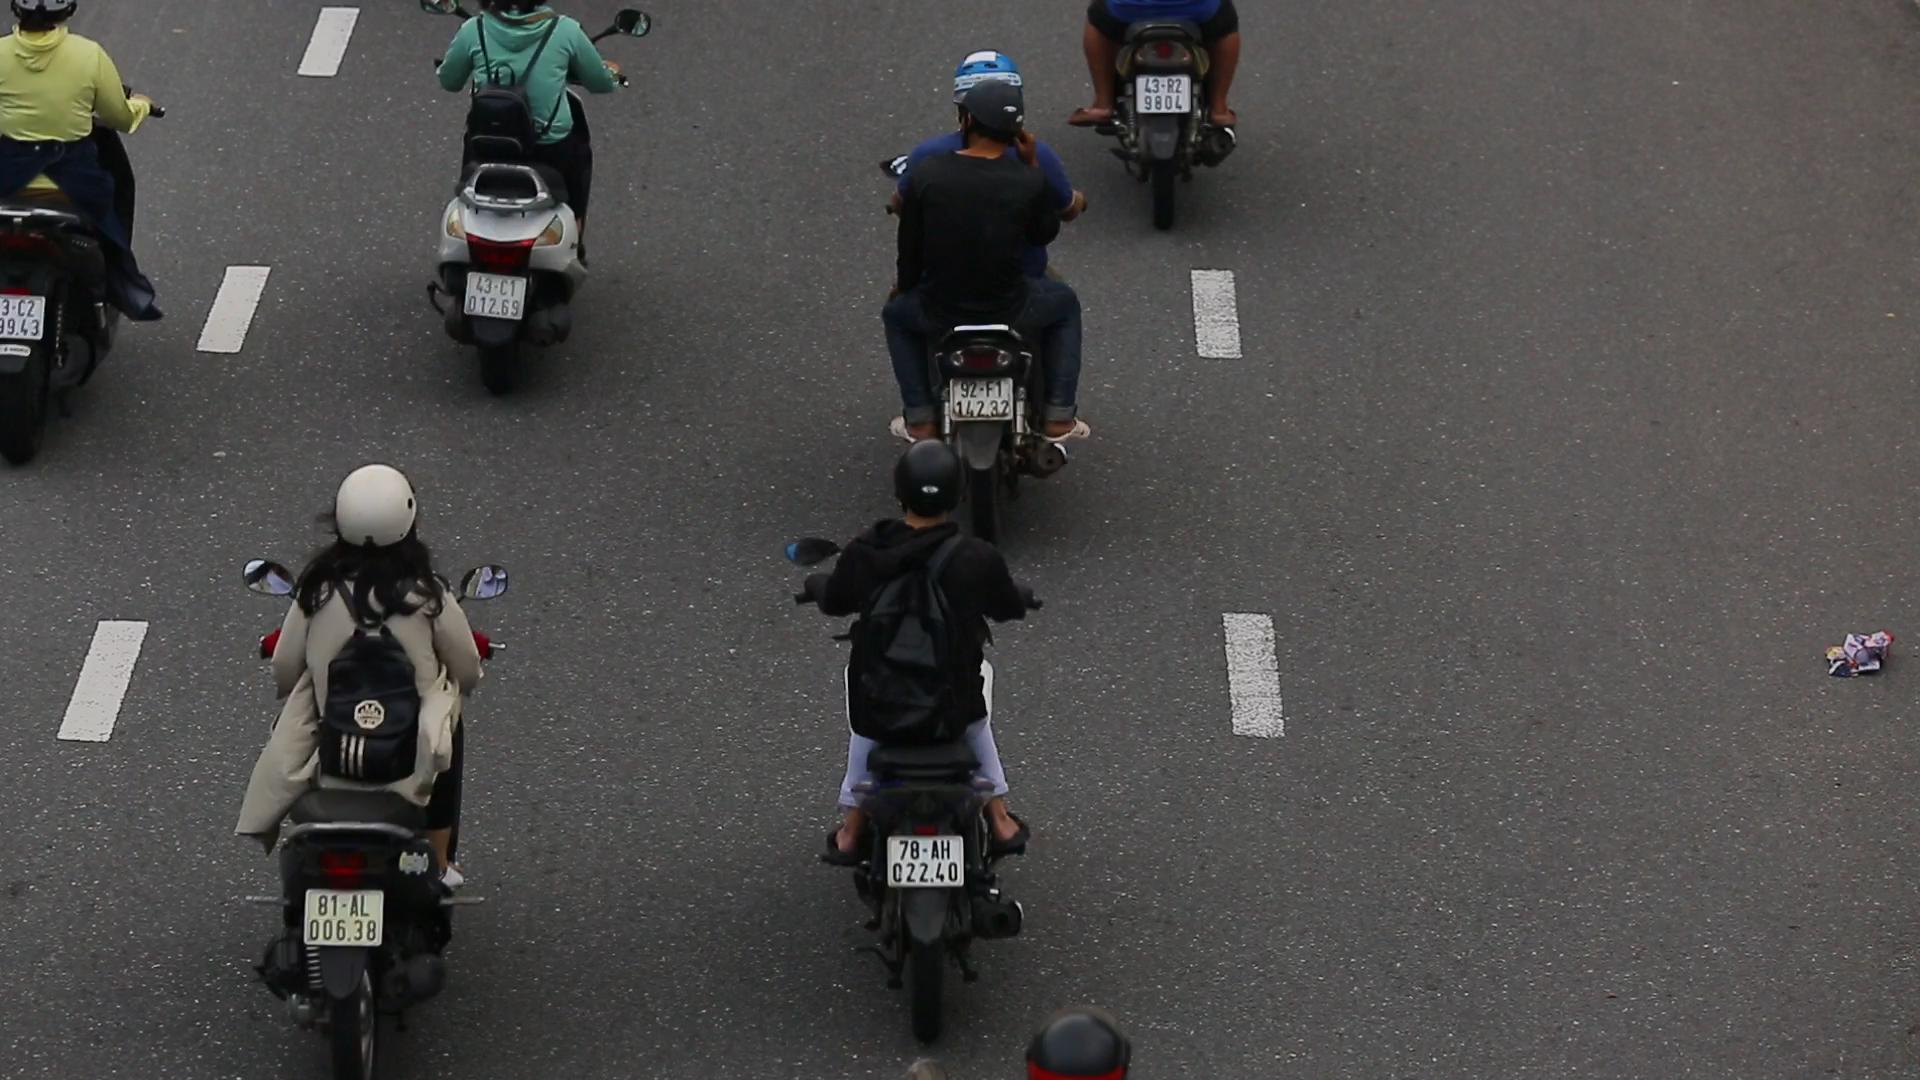motobike: (220, 430, 542, 1072), (790, 421, 1031, 1055), (844, 45, 1122, 459)
